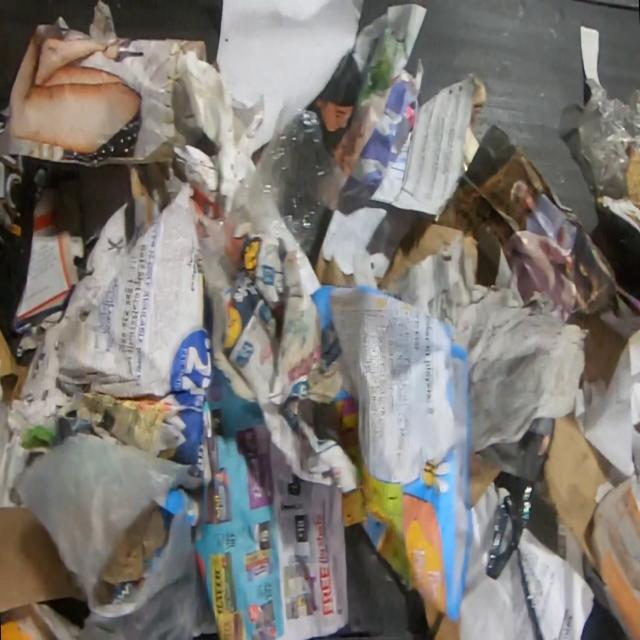cardboard: (309, 281, 474, 622), (11, 159, 84, 356), (533, 409, 612, 579), (370, 198, 481, 289), (0, 505, 89, 612), (97, 500, 166, 604), (563, 308, 629, 391), (470, 440, 502, 509), (0, 326, 29, 401), (591, 195, 640, 235), (419, 593, 461, 639), (125, 163, 171, 198), (626, 150, 640, 212)
rigid_plastic: (486, 484, 550, 640)
soft_plastic: (12, 432, 199, 640), (239, 105, 340, 271), (0, 94, 48, 327), (578, 74, 640, 198), (198, 219, 233, 289)
